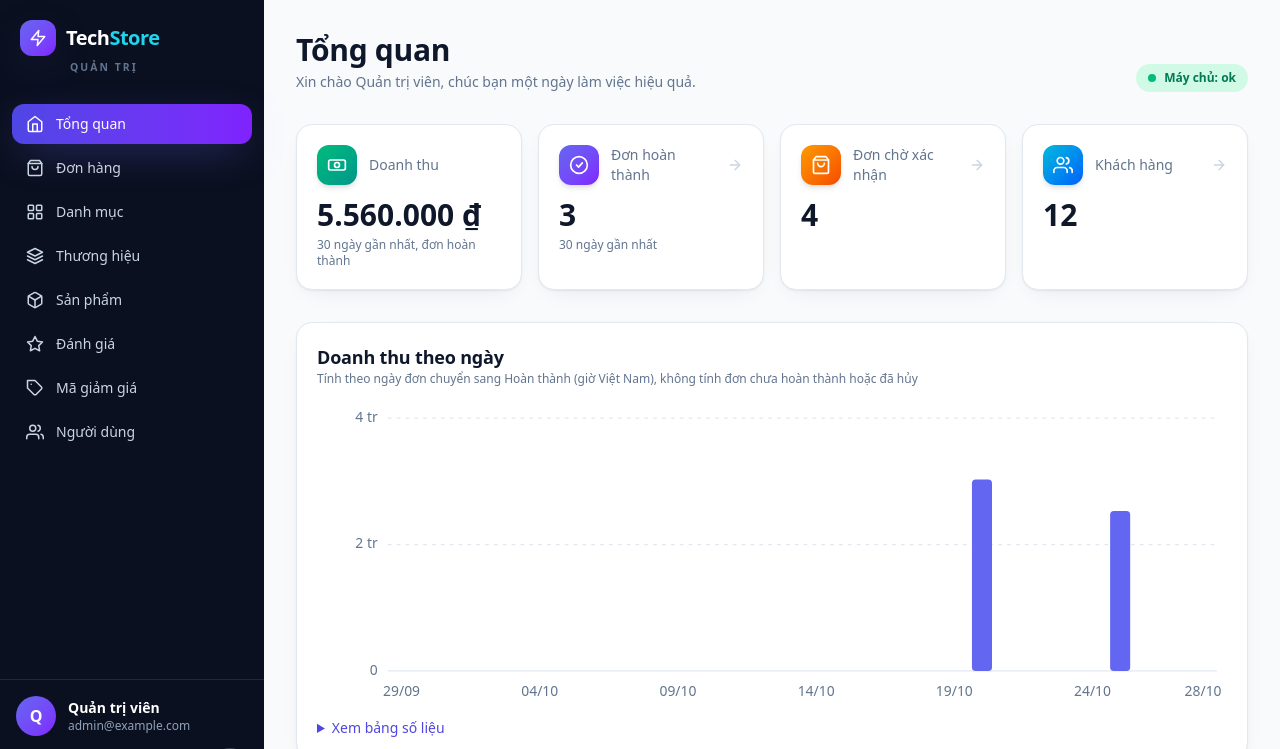
it: Biểu đồ doanh thu theo ngày (US-26 AC1) › có bảng số liệu dạng văn bản, ngày mới nhất trước, chỉ gồm ngày có đơn
Expected: the picture named "Biểu đồ doanh thu" is shown, [317,403,1227,706]
What coordinates should you click on to do the following:
click the heading "Xem bảng số liệu"
I would click on:
 (388, 728)
Its box is [332,718,445,737].
(page scrolled)
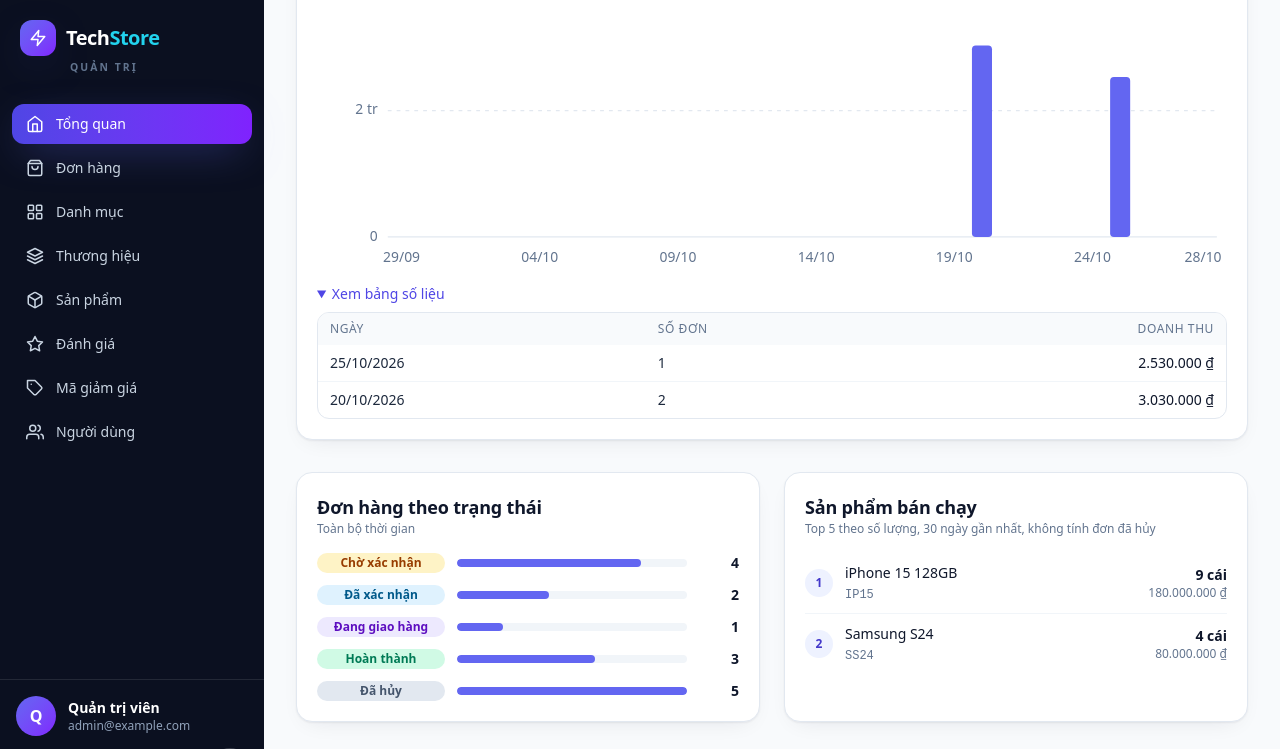
Expected: the row "25/10/2026 1 2.530.000 ₫" is shown, [318,345,1226,382]
Expected: the row "20/10/2026 2 3.030.000 ₫" is shown, [318,382,1226,418]
Expected: the cell "2" is shown, [646,382,892,418]
